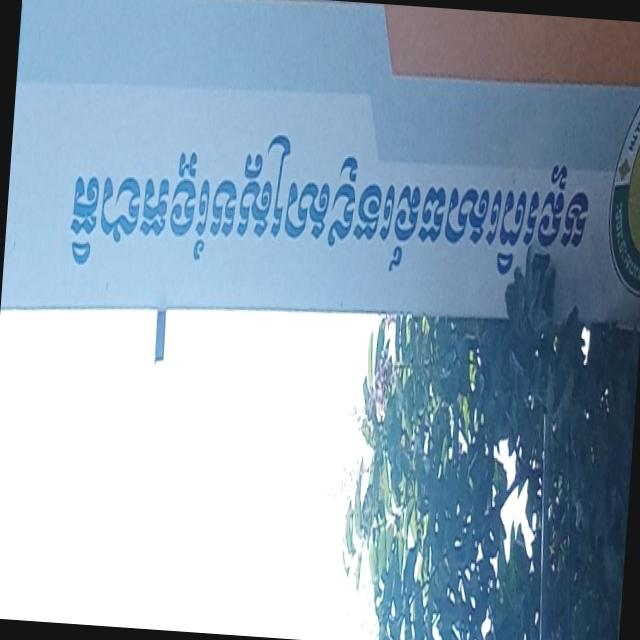Yolov11kh: (37, 101, 605, 294)
